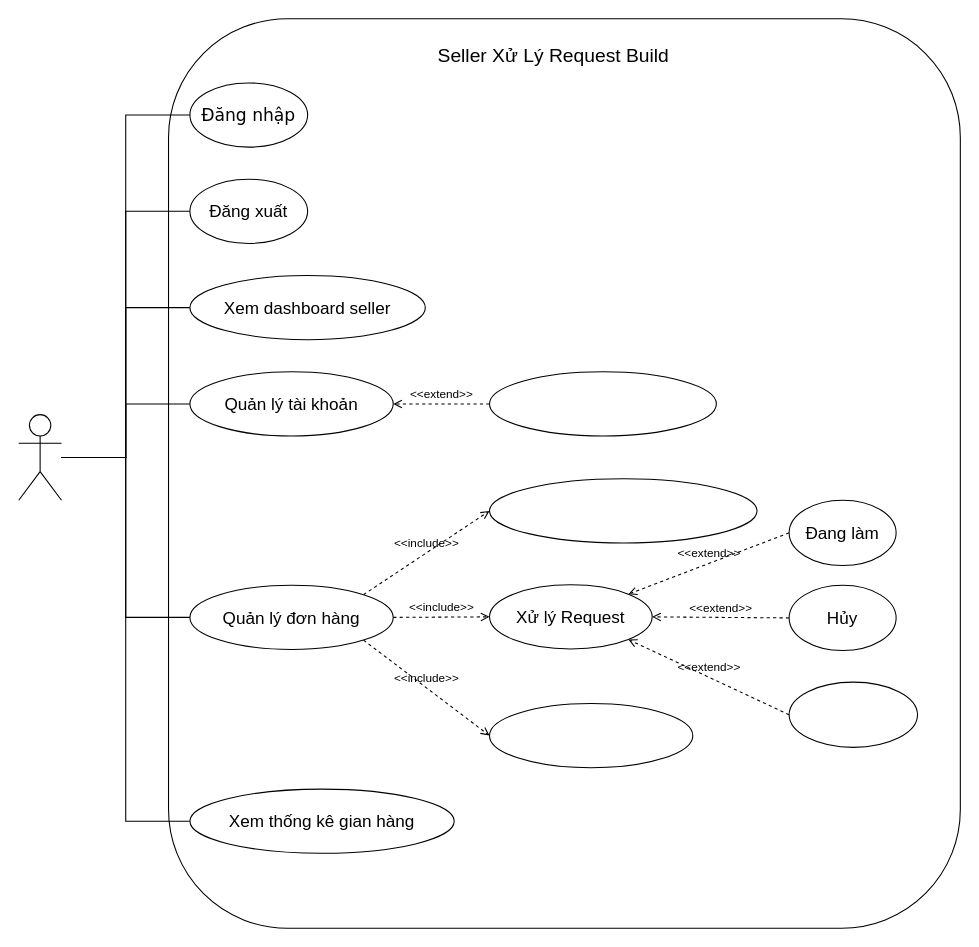
The diagram is 979 pixels wide and 947 high, and some of its shapes have lost their labels. The shapes that lost their labels are listed below. From the top down, each one's centre as x and y in pixels, then its label:
point (602, 403): Xem profile tài khoản
point (40, 457): Seller
point (622, 510): Xem danh sách Request
point (853, 714): Hoàn thành
point (590, 735): Thực hiện QC Test
